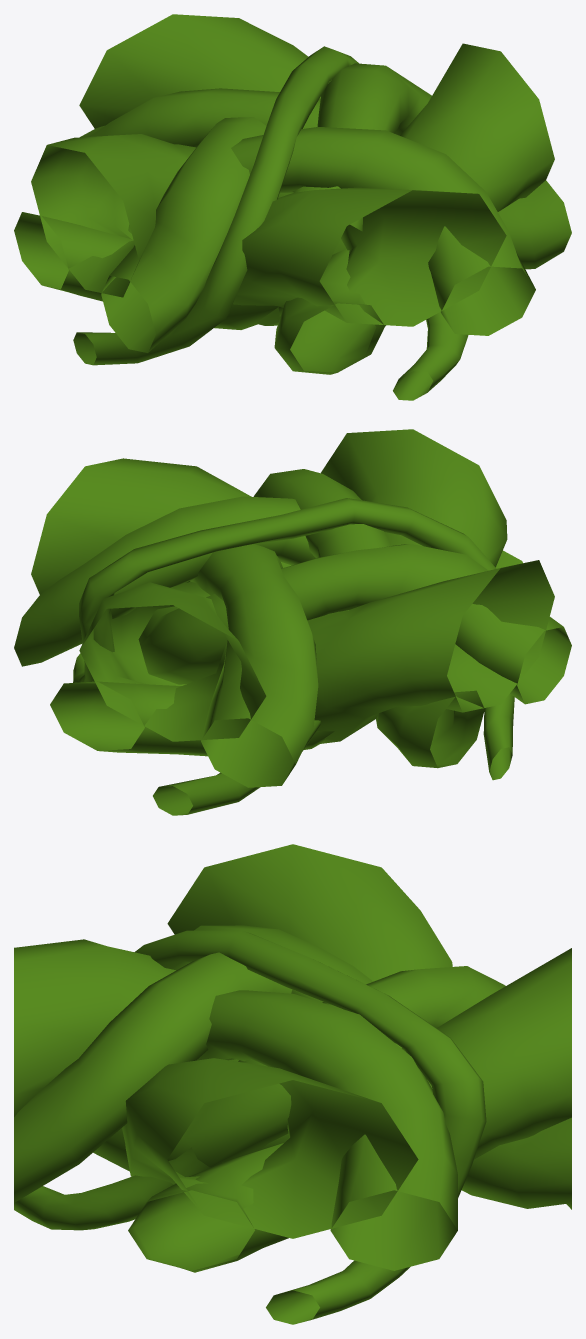
3 renders of one model, top to bottom at view 1: azimuth 30°, elevation 25°; view 2: azimuth 150°, elevation 25°; view 3: azimuth 270°, elevation 25°, orthographic. The views are drawn at different scales.
Visible parts, largest first — view 1: root_cross; view 2: root_cross; view 3: root_cross.
Part boxes in pixels (bbox=[...]): root_cross: bbox=[14, 14, 571, 400]; root_cross: bbox=[14, 429, 571, 815]; root_cross: bbox=[14, 844, 571, 1324].
Size of the model in its own units: 100 by 50.48 by 100.
